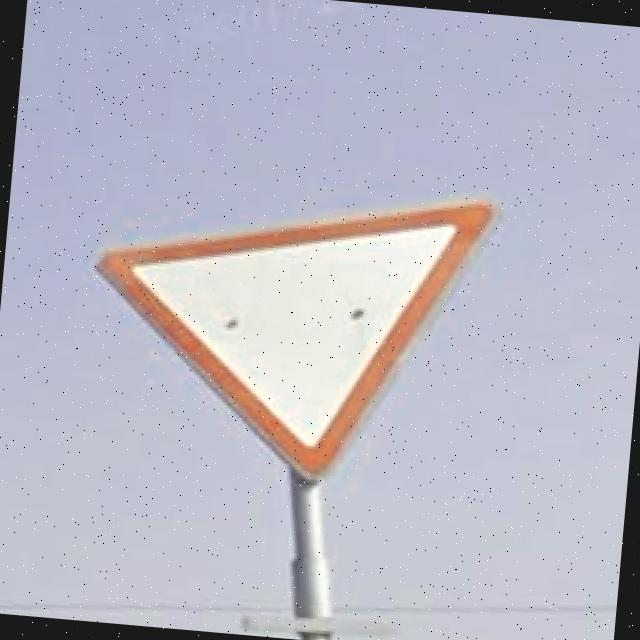Ustap pierwszenstwa: (78, 169, 496, 490)
